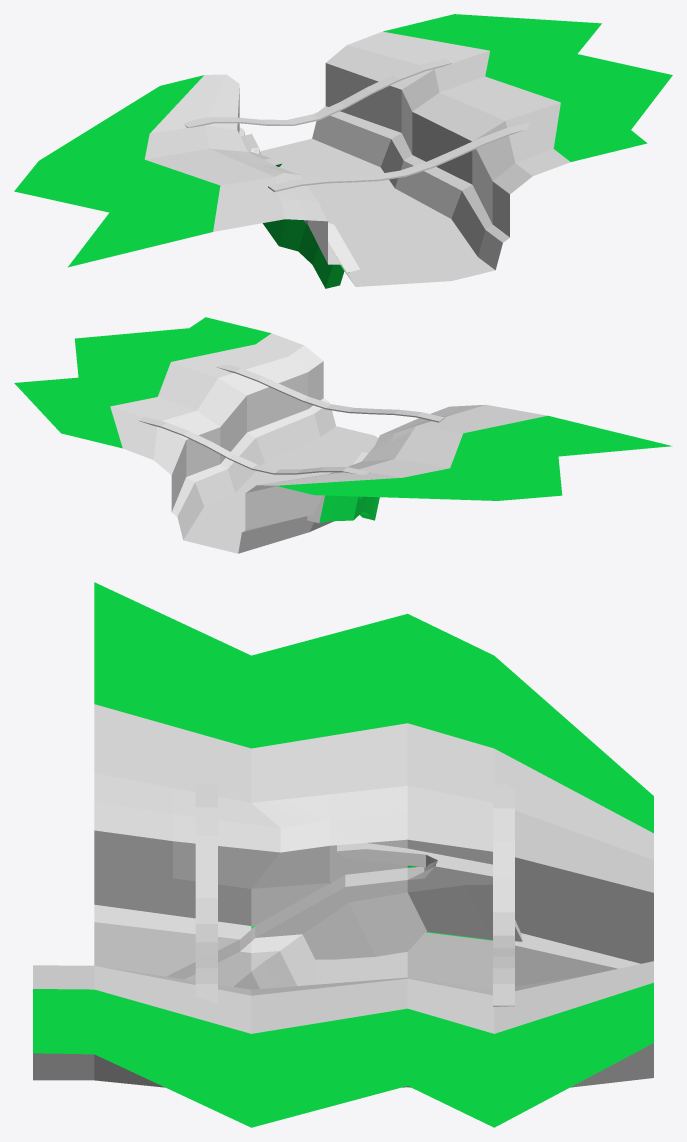
File: DemoArea2.0.fbx
3 views of the same model, one above another, from view 1: azimuth 30°, elevation 25°; view 2: azimuth 150°, elevation 25°; view 3: azimuth 270°, elevation 25° (orthographic). The views are drawn at different scales.
Parts seen in each view (by area): view 1: Plane, Cube.001, Cube; view 2: Plane, Cube.001, Cube; view 3: Plane, Cube, Cube.001.
Part boxes in pixels (x1,y1,x2,y2): Plane: (14, 14, 672, 288); Cube.001: (184, 58, 451, 127); Cube: (268, 122, 529, 192); Plane: (14, 317, 672, 553); Cube.001: (138, 416, 370, 474); Cube: (215, 364, 444, 422); Plane: (33, 582, 653, 1127); Cube: (195, 784, 217, 1003); Cube.001: (493, 784, 514, 1006).
Size of the model in its own units: 28067 by 5268 by 13503.
